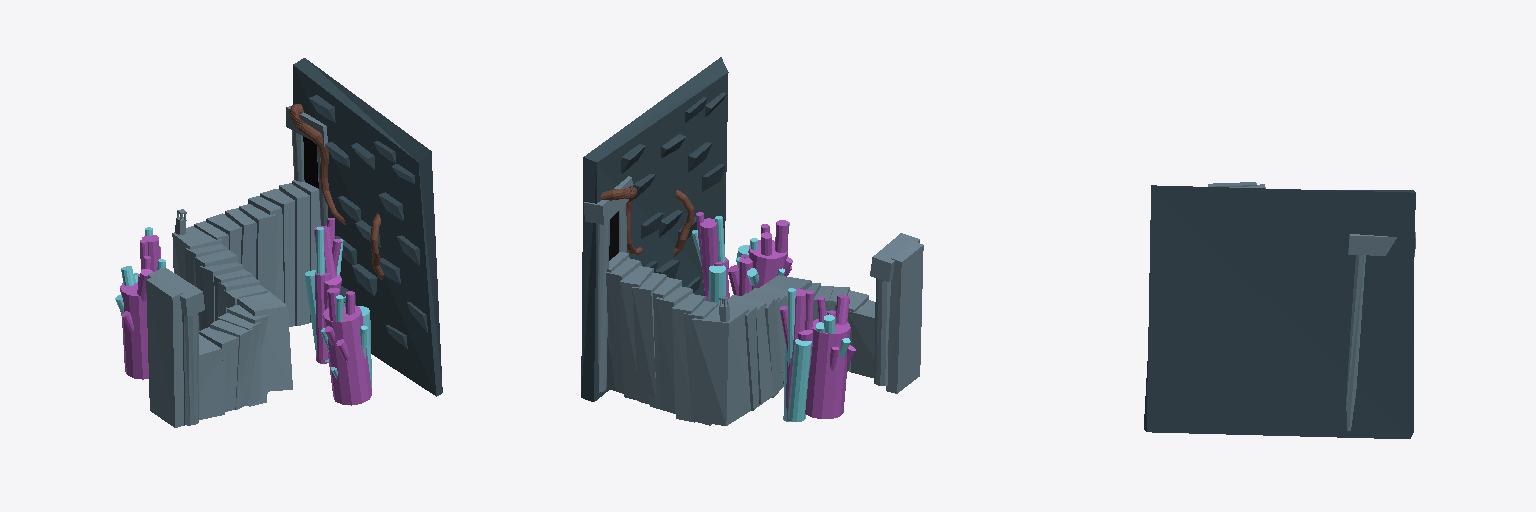
The model's file is dungeon.obj.
The picture shows the model from 3 angles: view 1: azimuth 30°, elevation 25°; view 2: azimuth 150°, elevation 25°; view 3: azimuth 270°, elevation 25°; orthographic projection.
Parts seen in each view (by area): view 1: group[number redacted], group[number redacted], group[number redacted], group[number redacted], group[number redacted], group[number redacted], group[number redacted], group[number redacted], group[number redacted], group[number redacted], group[number redacted], group[number redacted] (+15 smaller); view 2: group[number redacted], group[number redacted], group[number redacted], group[number redacted], group[number redacted], group[number redacted], group[number redacted], group[number redacted], group[number redacted], group[number redacted], group[number redacted], group[number redacted] (+14 smaller); view 3: group[number redacted], group[number redacted], group[number redacted].
Part boxes in pixels (left/top/right/bottom): group[number redacted]: left=293, top=58, right=442, bottom=396; group[number redacted]: left=146, top=275, right=184, bottom=427; group[number redacted]: left=323, top=303, right=371, bottom=405; group[number redacted]: left=237, top=291, right=292, bottom=391; group[number redacted]: left=279, top=183, right=310, bottom=325; group[number redacted]: left=120, top=282, right=148, bottom=379; group[number redacted]: left=199, top=334, right=224, bottom=419; group[number redacted]: left=239, top=204, right=276, bottom=295; group[number redacted]: left=182, top=313, right=198, bottom=425; group[number redacted]: left=260, top=189, right=294, bottom=326; group[number redacted]: left=199, top=327, right=241, bottom=411; group[number redacted]: left=210, top=320, right=252, bottom=409; group[number redacted]: left=581, top=57, right=728, bottom=401; group[number redacted]: left=692, top=304, right=750, bottom=425; group[number redacted]: left=886, top=241, right=923, bottom=393; group[number redacted]: left=805, top=319, right=850, bottom=418; group[number redacted]: left=632, top=273, right=666, bottom=404; group[number redacted]: left=655, top=286, right=693, bottom=413; group[number redacted]: left=620, top=266, right=653, bottom=400; group[number redacted]: left=672, top=294, right=705, bottom=422; group[number redacted]: left=606, top=258, right=641, bottom=393; group[number redacted]: left=848, top=300, right=874, bottom=377; group[number redacted]: left=598, top=220, right=609, bottom=392; group[number redacted]: left=874, top=278, right=890, bottom=385; group[number redacted]: left=1144, top=185, right=1415, bottom=438; group[number redacted]: left=1346, top=255, right=1365, bottom=430; group[number redacted]: left=1348, top=232, right=1415, bottom=256.
Size of the model in its own units: 9.84 by 9.65 by 9.54.